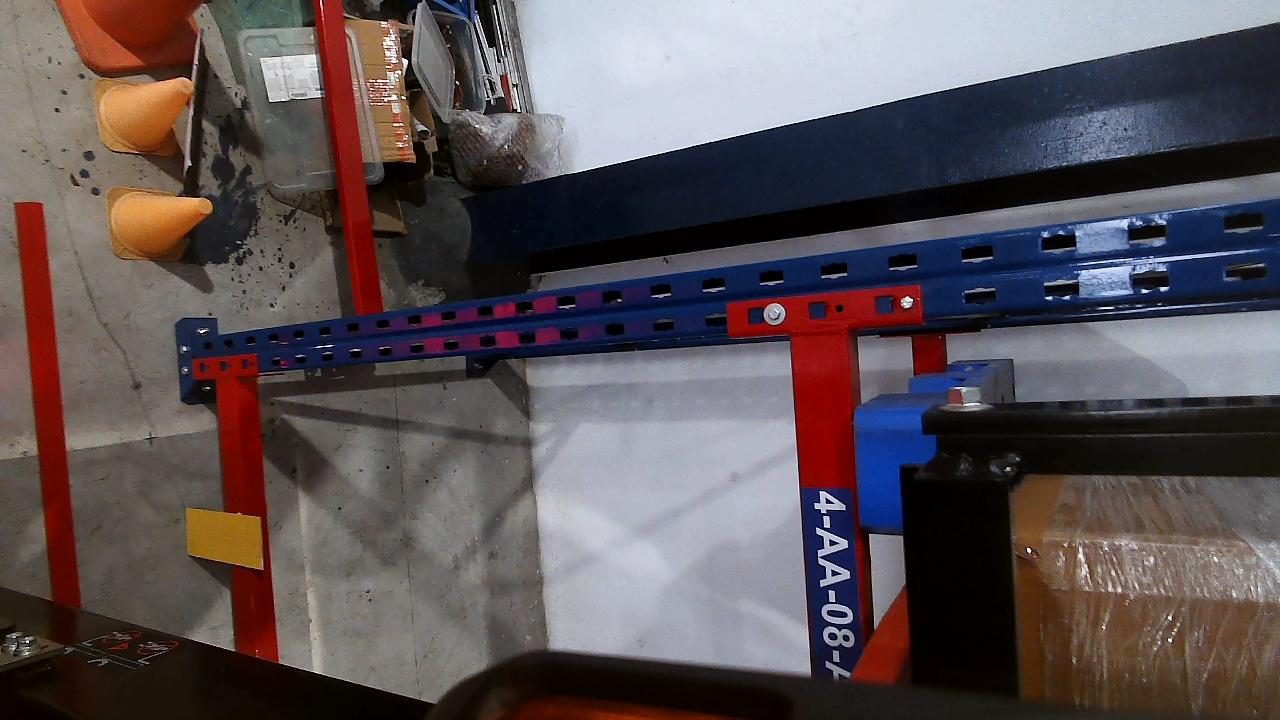h_rack: (790, 331, 876, 678), (214, 376, 262, 658)
orange_strip: (185, 508, 263, 567)
red_line: (14, 203, 80, 602)
